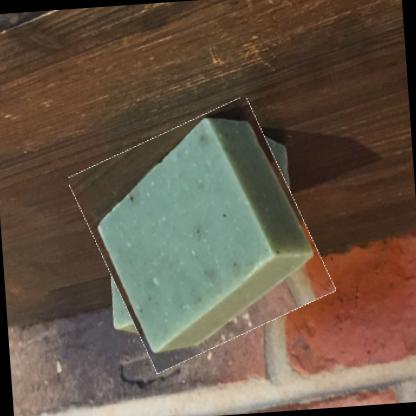soap: (79, 106, 324, 364)
